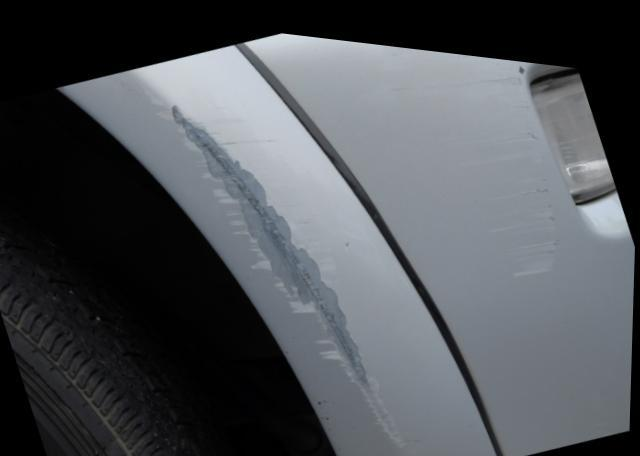scratch: (148, 87, 415, 441), (394, 37, 563, 268)
